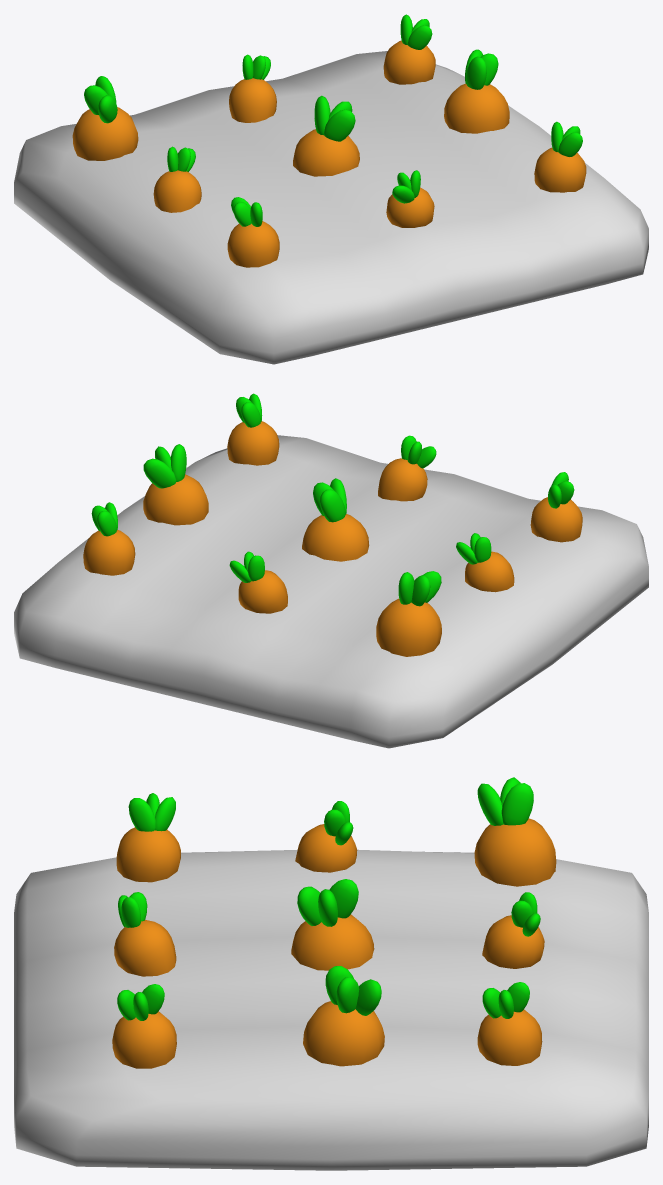
The model's file is Carrot_Farm.fbx.
3 views of the same model, one above another, from view 1: azimuth 30°, elevation 25°; view 2: azimuth 150°, elevation 25°; view 3: azimuth 270°, elevation 25° (orthographic). The views are drawn at different scales.
Visible parts, largest first — view 1: Ground; view 2: Ground; view 3: Ground.
Part boxes in pixels (x1,y1,x2,y2): Ground: (14, 14, 648, 364); Ground: (14, 393, 648, 748); Ground: (14, 777, 648, 1170).
Size of the model in its own units: 1.92 by 0.5413 by 1.92.
